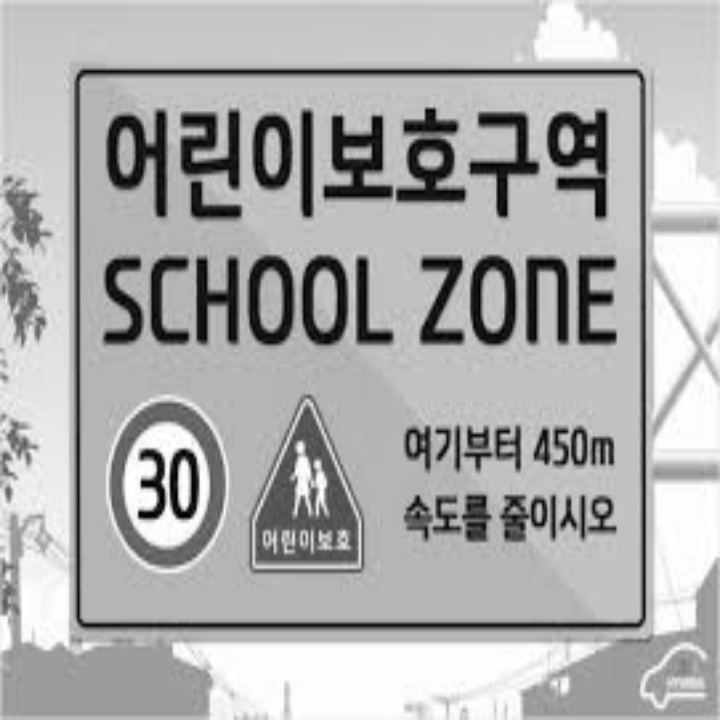child: (260, 423, 359, 524)
